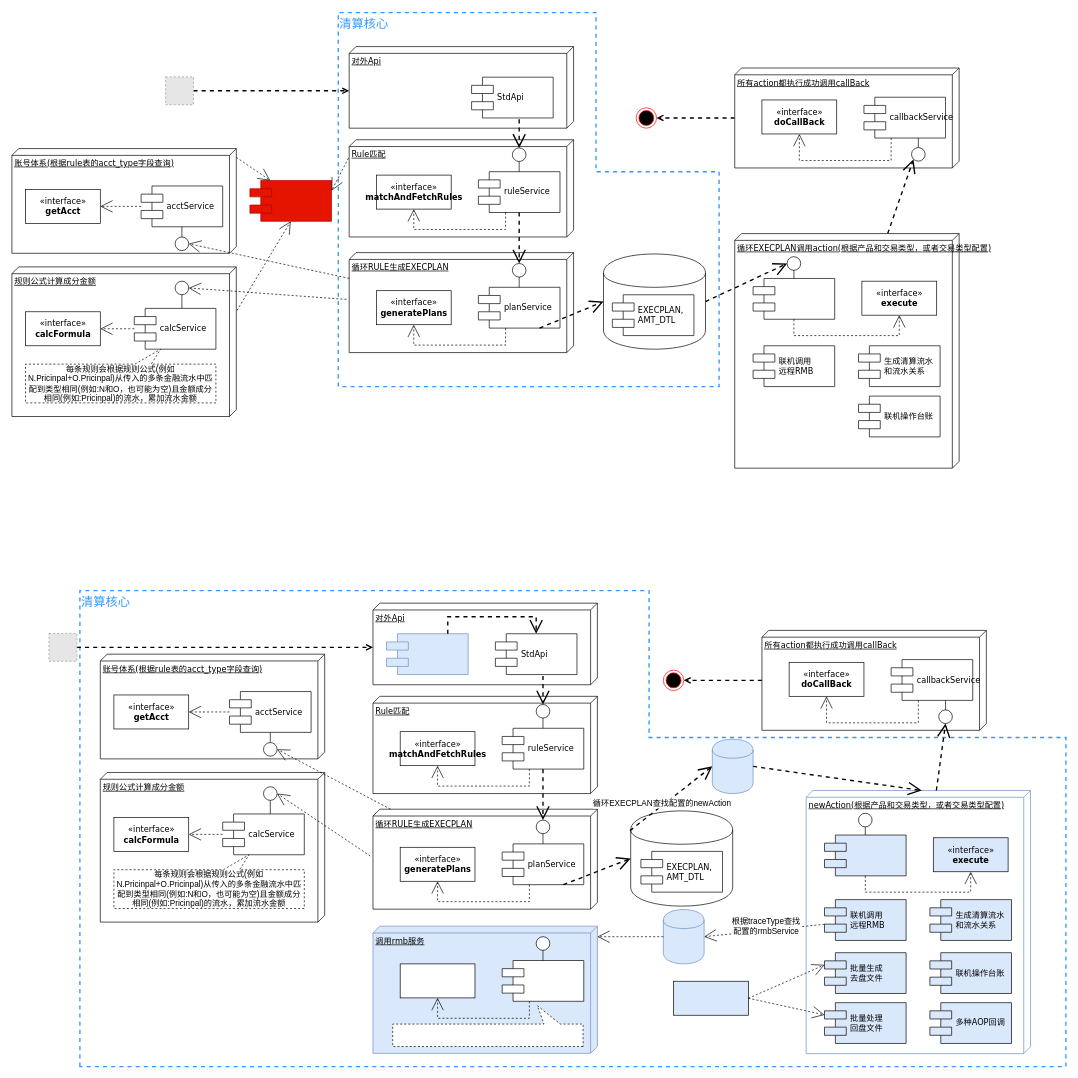
Image size: 1078x1078. Some labels were removed from this diagram. Grey dashed boxes stand in for pictures. The shapes that lost their labels are listed below. From the top down, each one's centre as x and y in pixels, then its label:
At point 290,200: "modelDao, acctDao".
At point 793,298: "action".
At point 427,654: "SimpleApi".
At point 732,766: "TRACE_REMOTE_MAPPING".
At point 865,855: "newAction".
At point 683,936: "REMOTE_SERVICE_RMB".
At point 437,980: "«interface» sendRmbRequest".
At point 543,980: "rmbService".
At point 710,998: "TSP调度平台".
At point 487,1026: "分为三类rmb请求，正向请求，查询请求，冲正请求".
